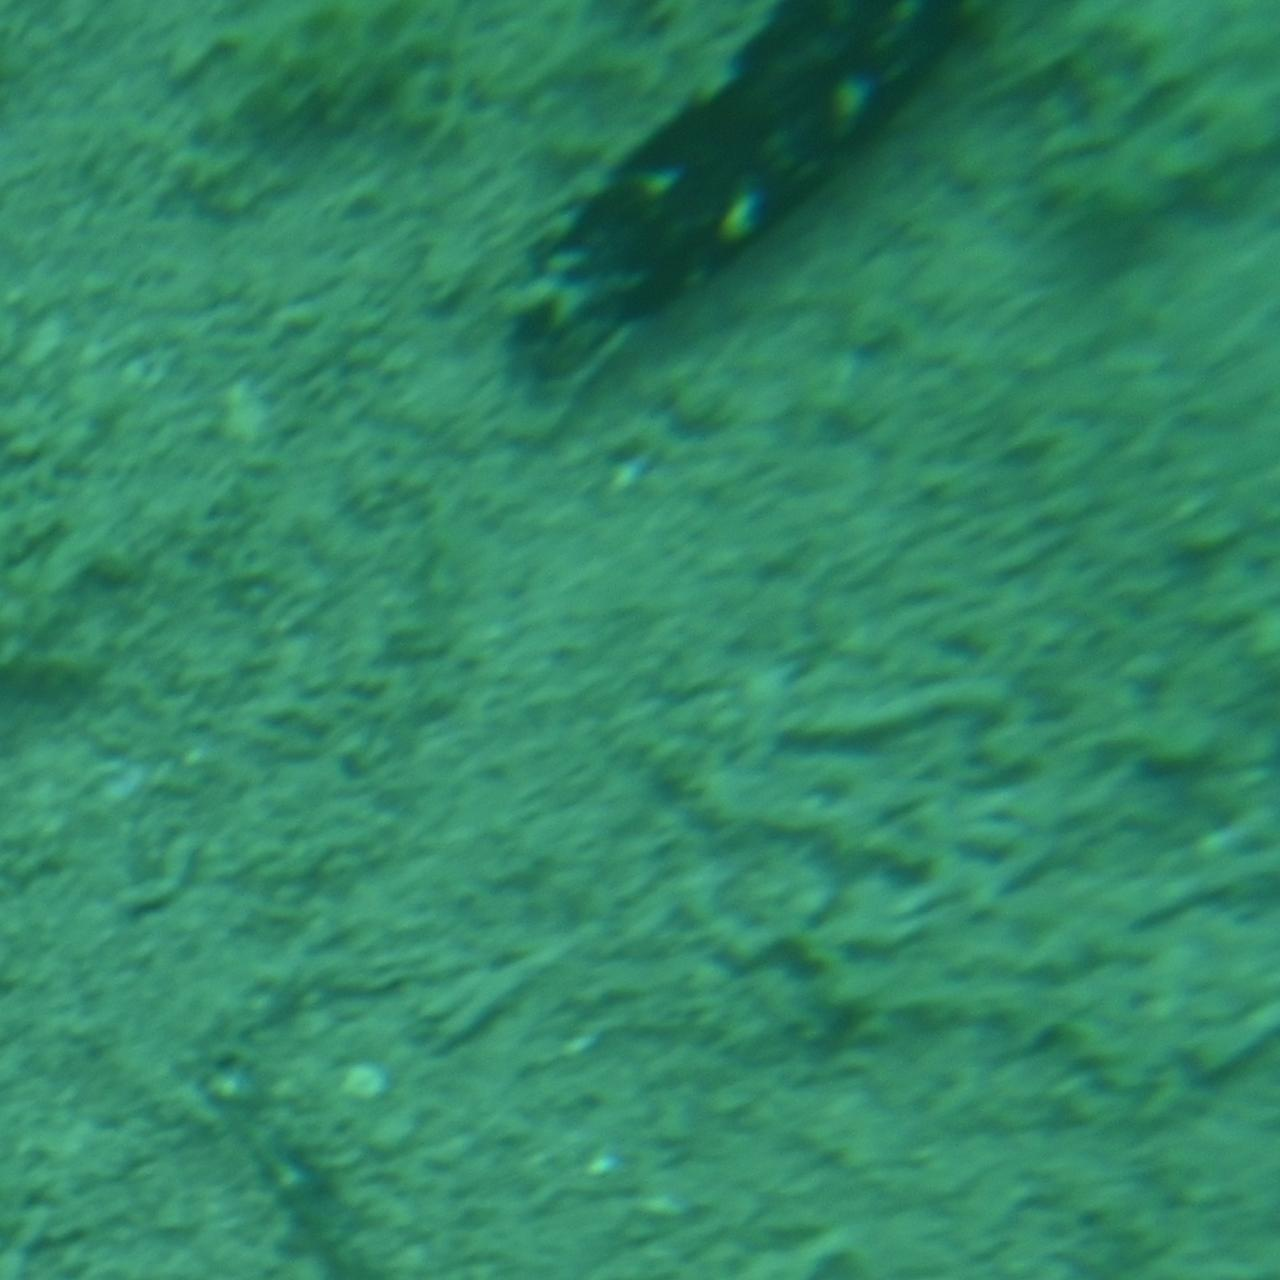Holothuria tubulosa: (512, 0, 998, 408)
